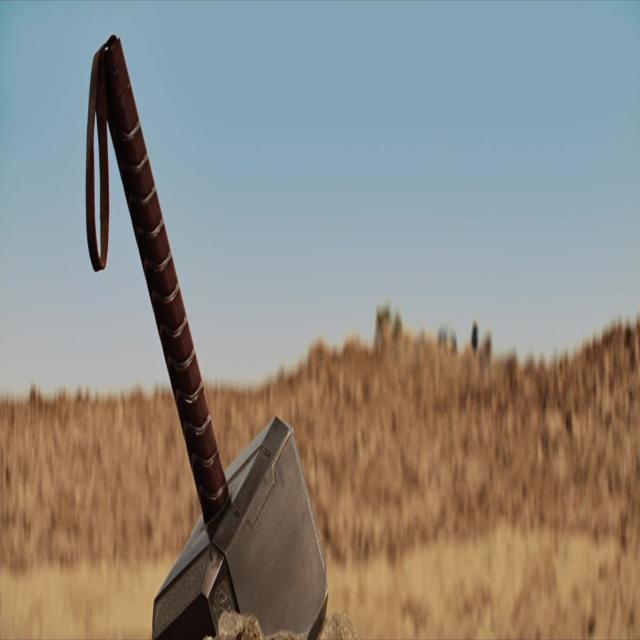hammer: (79, 26, 332, 640)
